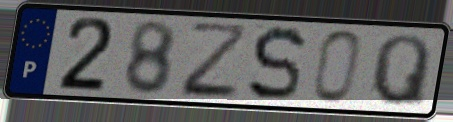0: (309, 27, 369, 107)
2: (54, 14, 117, 96)
8: (120, 18, 177, 97)
Q: (368, 32, 433, 110)
S: (245, 23, 309, 104)
Z: (179, 21, 251, 101)
